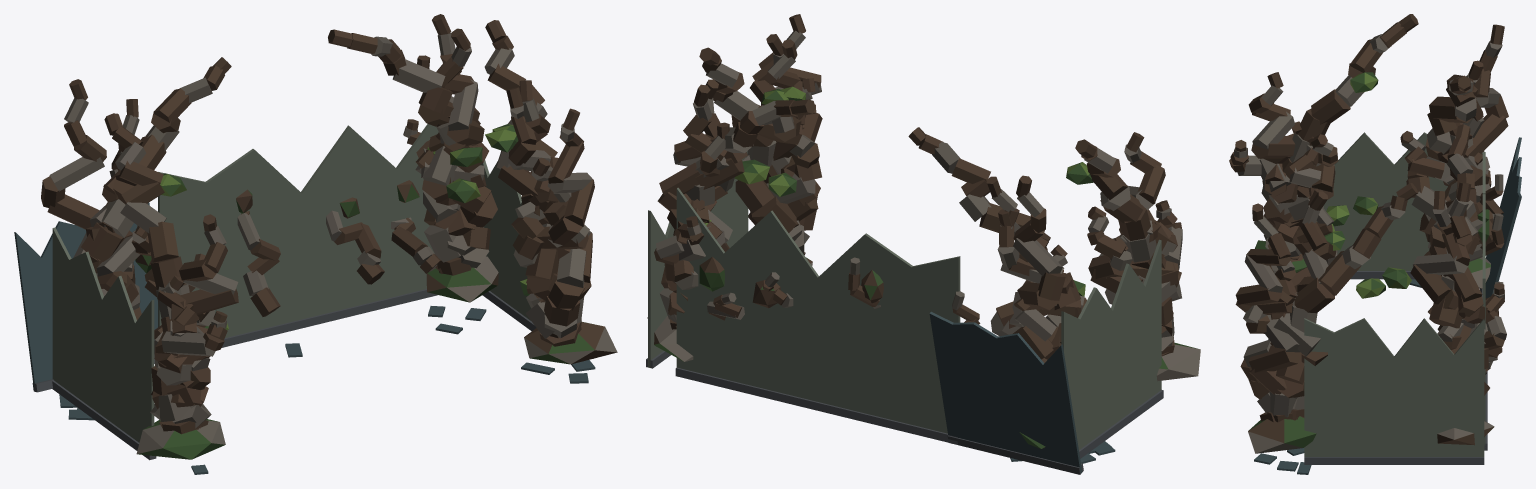
The model's file is lmk_boss_roots.fbx.
3 renders of one model, left to right at view 1: azimuth 30°, elevation 25°; view 2: azimuth 150°, elevation 25°; view 3: azimuth 270°, elevation 25°, orthographic. The views are drawn at different scales.
Parts seen in each view (by area): view 1: lmk_boss_roots; view 2: lmk_boss_roots; view 3: lmk_boss_roots.
Part boxes in pixels (x1,y1,x2,y2): lmk_boss_roots: (14, 14, 617, 474); lmk_boss_roots: (646, 14, 1200, 474); lmk_boss_roots: (1229, 14, 1521, 474).
Bounding box in the file's own units: 4.93 × 3.04 × 2.93.
